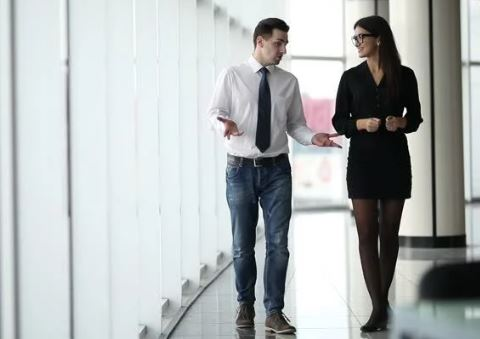person: (207, 18, 331, 333), (333, 15, 420, 331)
